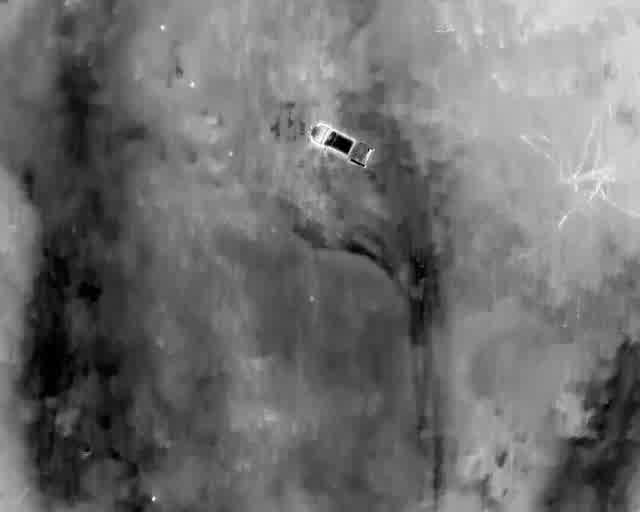car: (307, 120, 375, 170)
